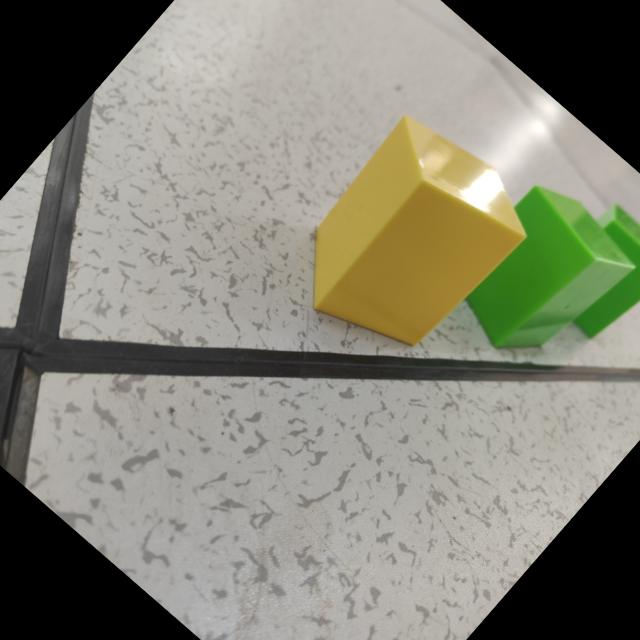green: (464, 185, 637, 351), (573, 199, 640, 345)
yellow: (311, 117, 526, 348)
